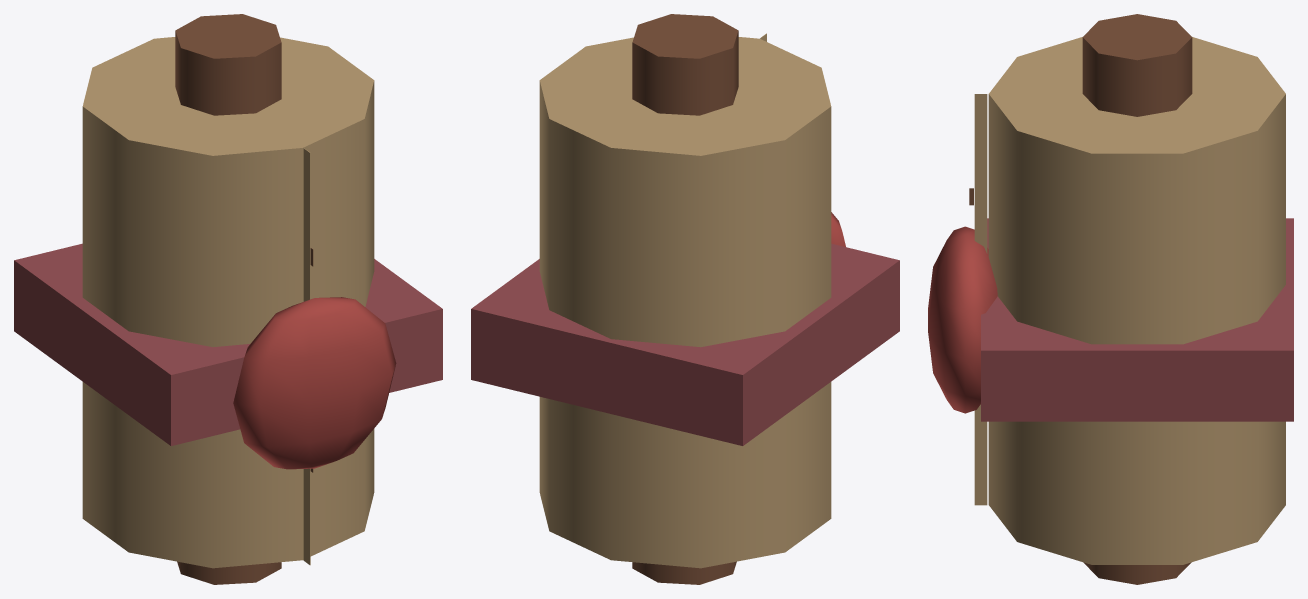
The model's file is scroll-3.glb.
3 renders of one model, left to right at view 1: azimuth 30°, elevation 25°; view 2: azimuth 150°, elevation 25°; view 3: azimuth 270°, elevation 25°, orthographic.
Visible parts, largest first — view 1: piece_whole, ReadingSheet; view 2: piece_whole; view 3: piece_whole, ReadingSheet.
Boxes of the visible parts, box(x1,y1,x2,y2) form: piece_whole: box(14, 14, 442, 584); ReadingSheet: box(303, 148, 313, 565); piece_whole: box(471, 14, 899, 584); piece_whole: box(928, 14, 1293, 584); ReadingSheet: box(969, 94, 987, 505).
Bounding box in the file's own units: 0.2 × 0.37 × 0.2338.
